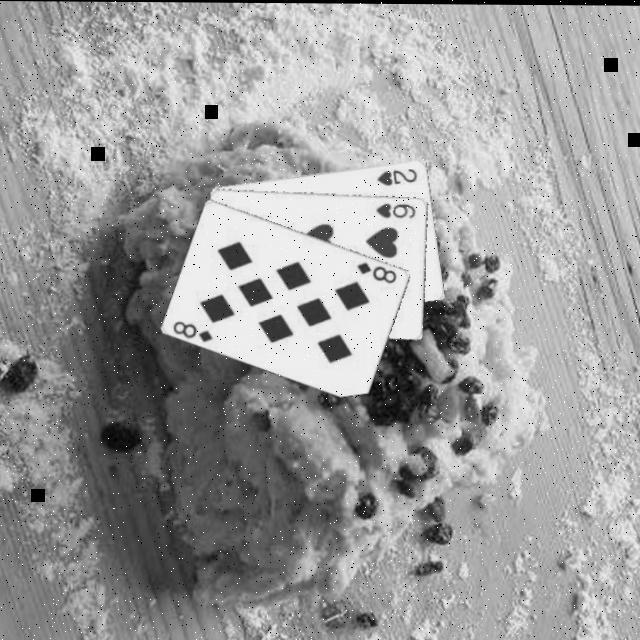2H: (376, 162, 422, 186)
6H: (375, 196, 421, 218)
8D: (356, 256, 402, 284), (172, 315, 218, 342)
